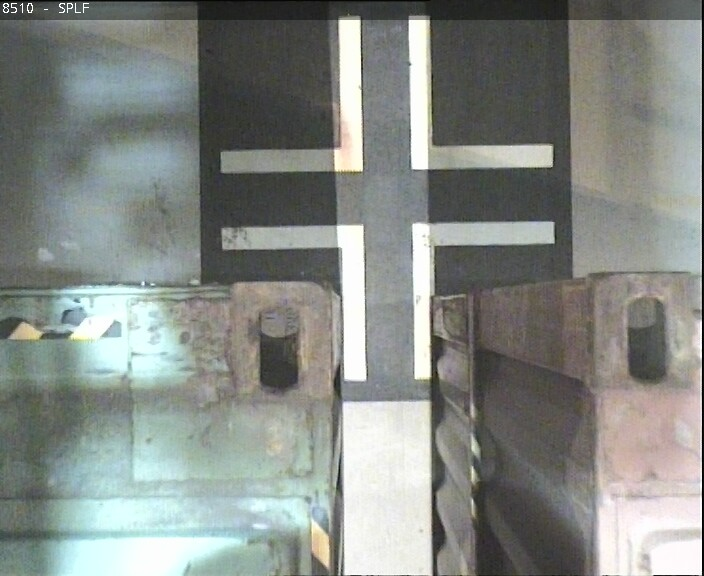groundmarker_1: (223, 218, 557, 380), (218, 15, 552, 177)
